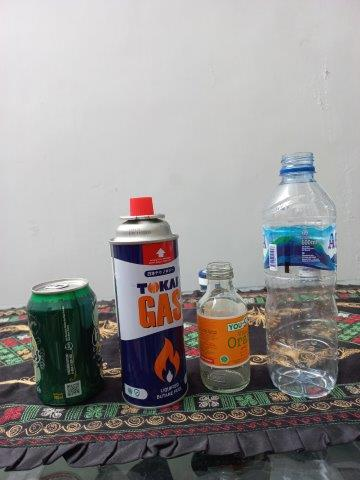botolkaca: (197, 264, 250, 392)
botolplastik: (263, 154, 338, 397)
kaleng: (111, 194, 187, 409), (26, 278, 100, 407)
